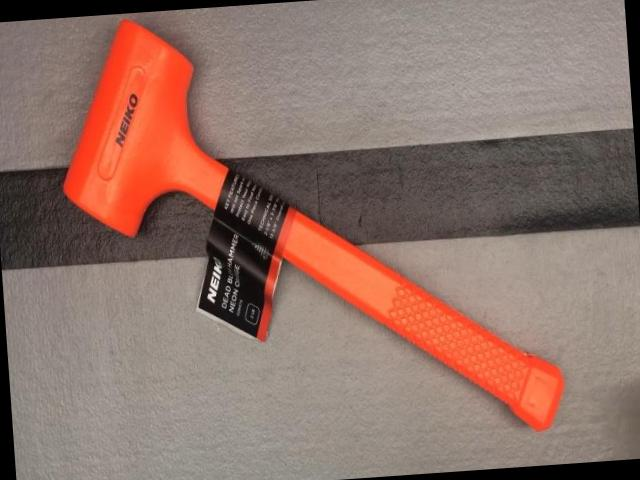hammer: (48, 0, 565, 462)
